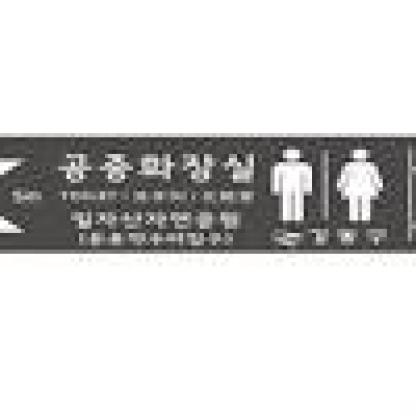toilet: (268, 145, 391, 226)
